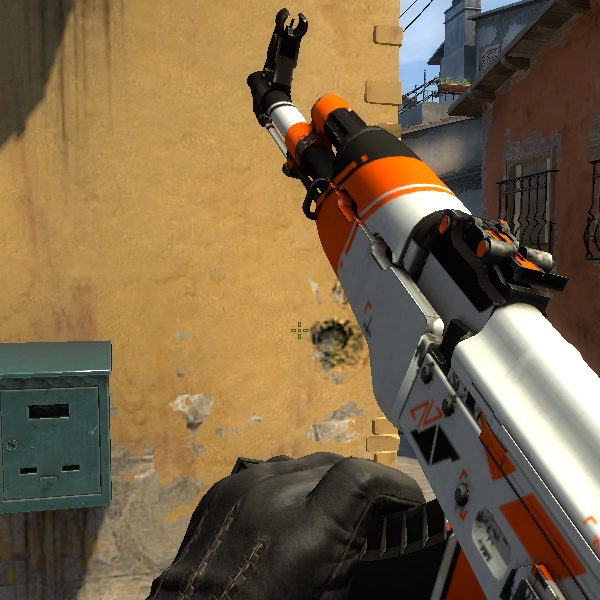t_body: (12, 3, 580, 600)
